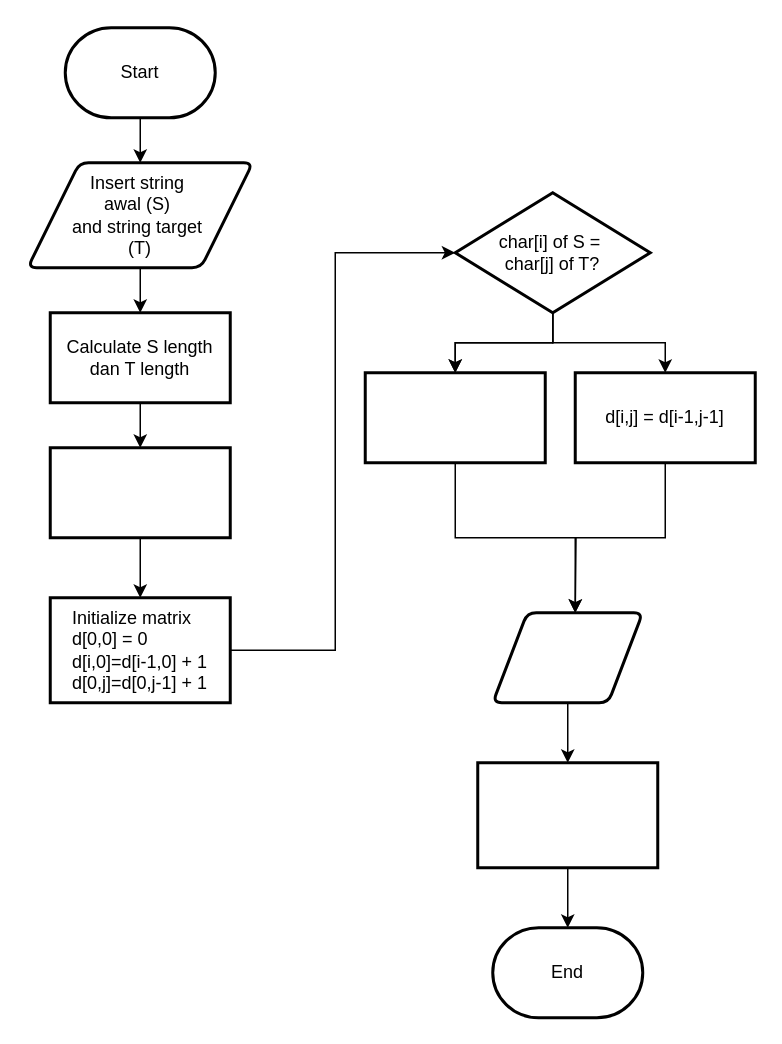
Some shapes in this 782 by 1044 pixel diagram are drawn without their labels. Each missing label, with the box of its shape:
Create strings matrix: (48, 446, 231, 538)
d[i,j] min of d[i,j-1]+1 d[i-1,j]+1 d[i-1,j-1]+1: (363, 370, 546, 464)
print value: (490, 610, 644, 704)
value of d[i,j] on the bottom right corner is the distance value: (476, 760, 658, 868)
